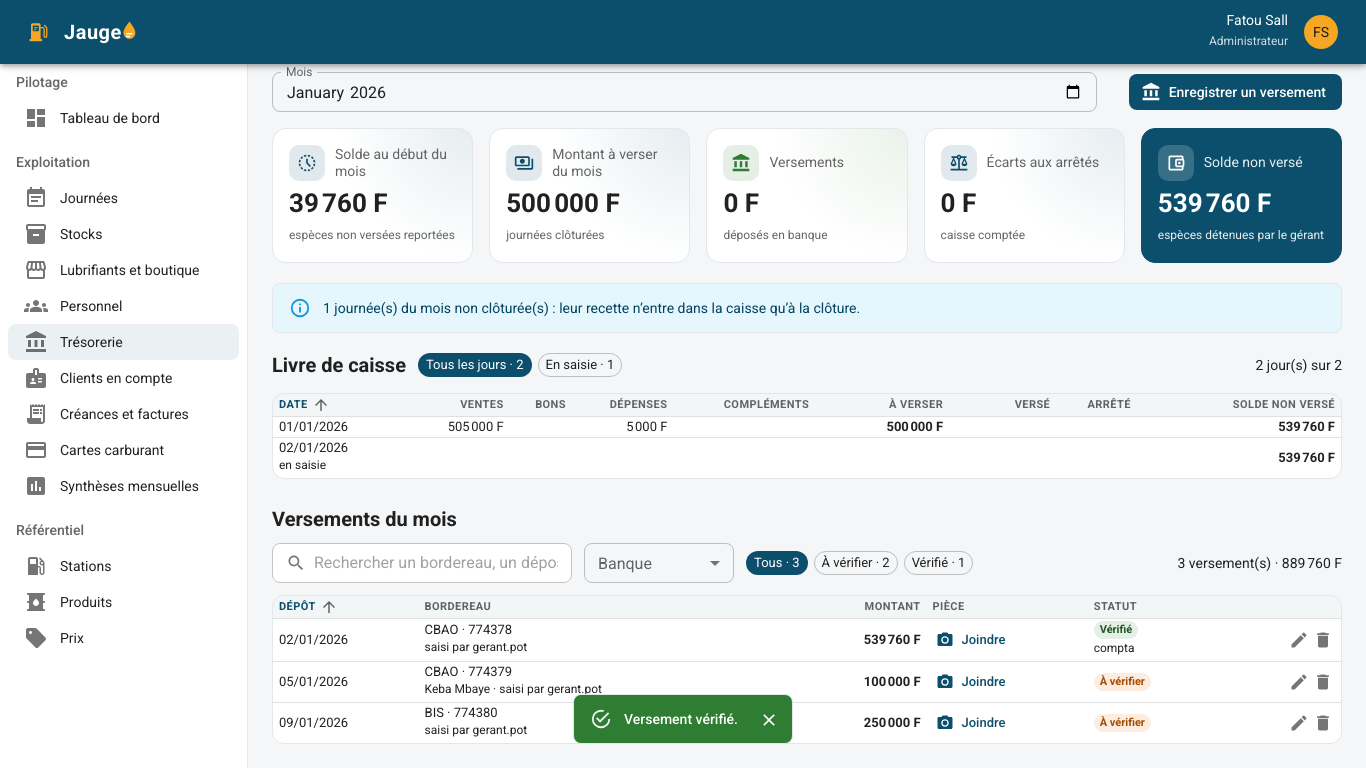
Test: trésorerie › les versements se filtrent par recherche et par statut, et se trient par colonne
(page scrolled)
Expected: the text with test id "resume-versements" reads "3 versement(s) · 889 760 F", [1178,555,1342,571]
Note: Tri par montant, puis sens inverse au second clic
Click the button "Montant".
click(893, 607)  # box [865,600,921,613]
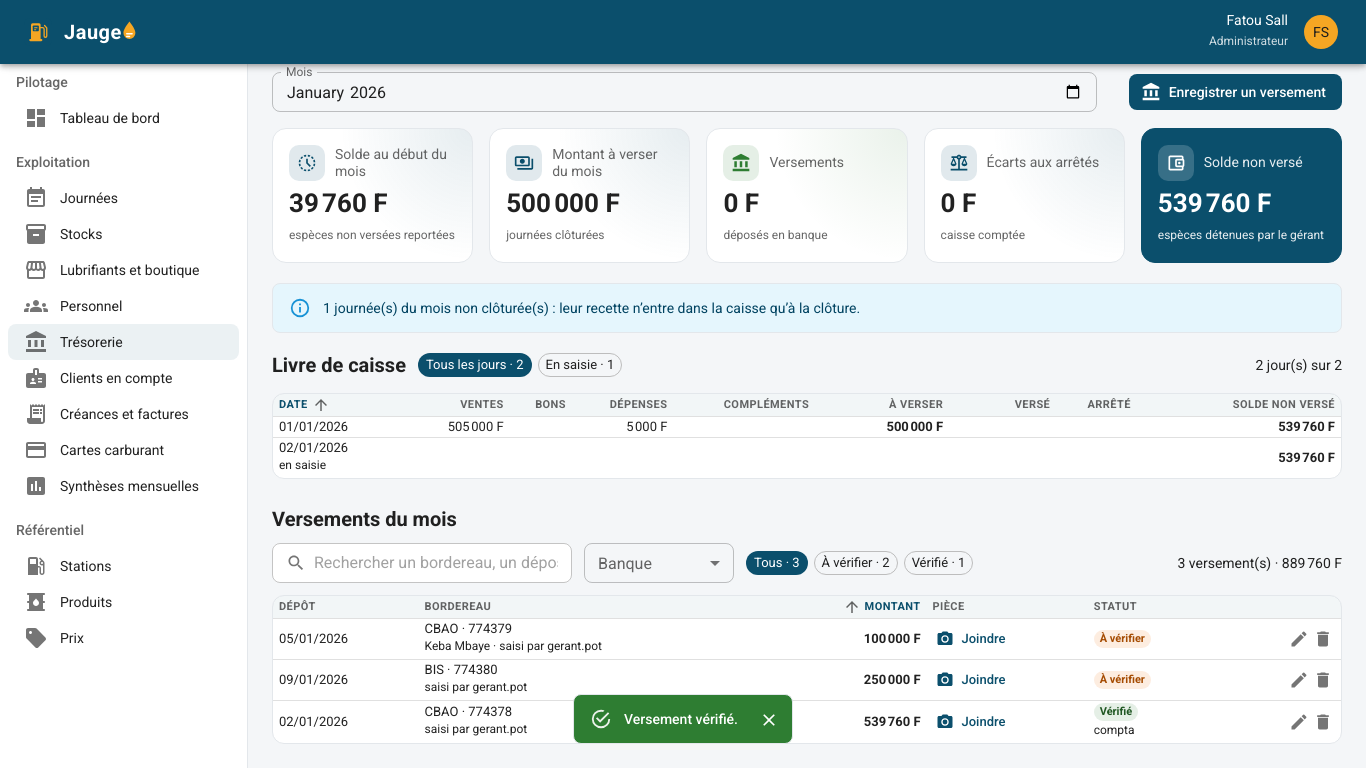
Click the button "Montant".
click(880, 607)  # box [839,598,921,616]
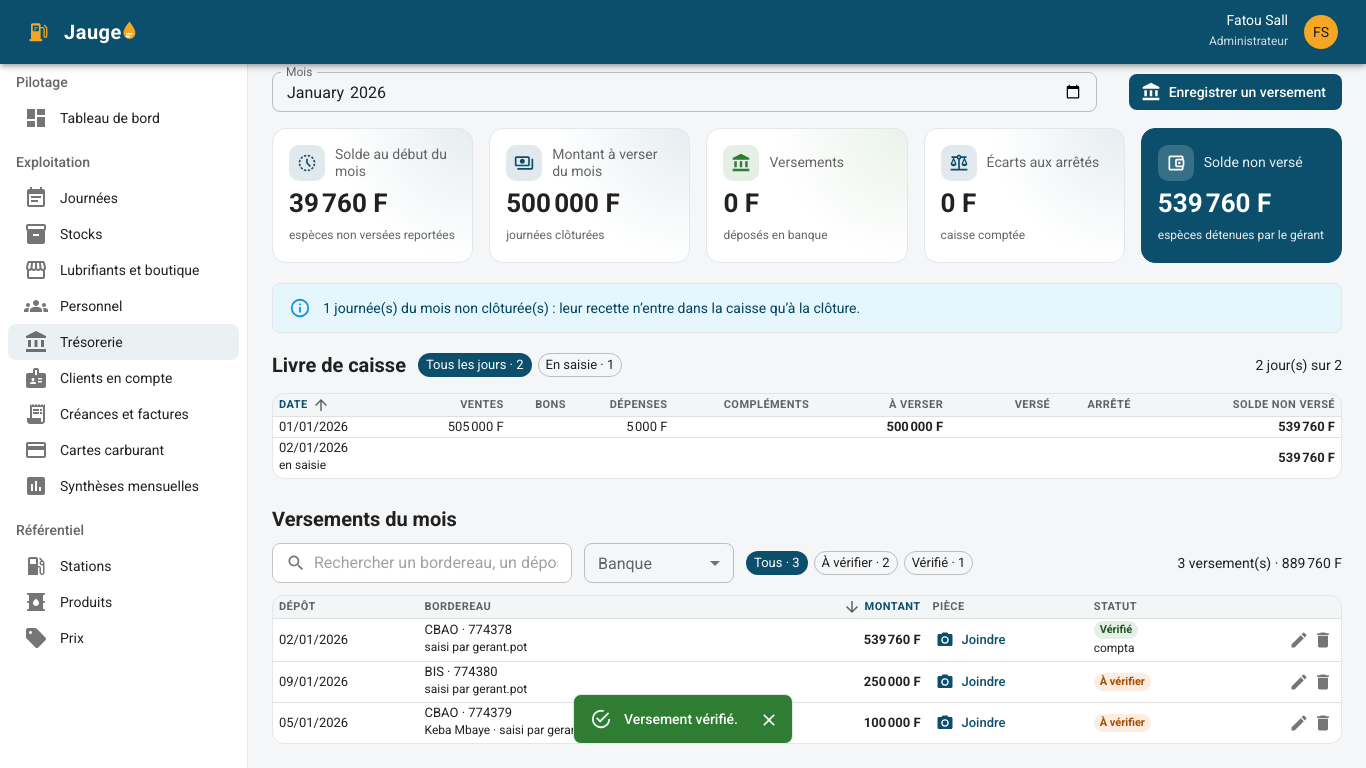
Note: Filtre par statut, avec le nombre de versements de chaque statut
Click the button "À vérifier · 2".
click(856, 563)  # box [814,551,898,575]
(page scrolled)
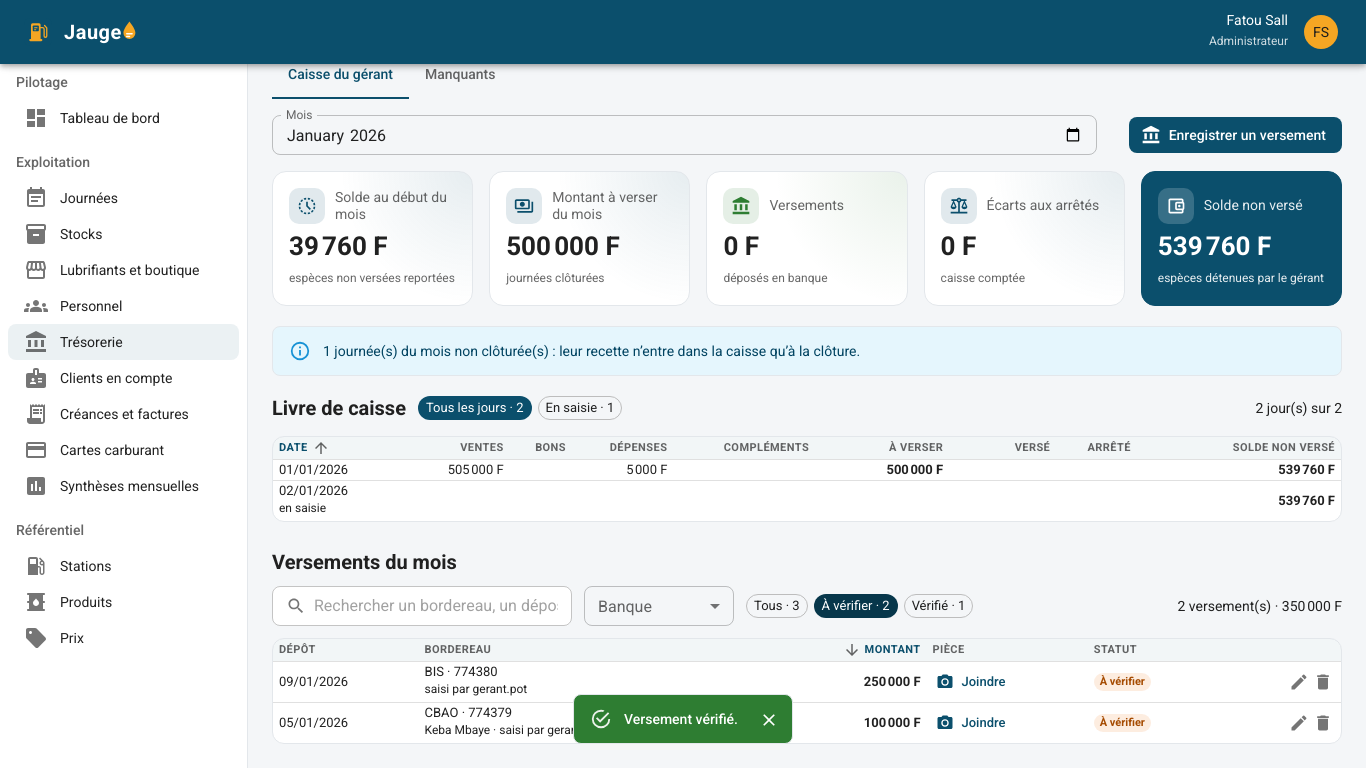
Expected: the text with test id "resume-versements" reads "2 versement(s) · 350 000 F", [1178,598,1342,614]
Note: Recherche sans accents ni majuscules, sur le déposant
Type "KEBA" into the field labelled "Rechercher un bordereau, un déposant".
click(443, 606); type("KEBA")  # box [314,586,572,626]
(page scrolled)
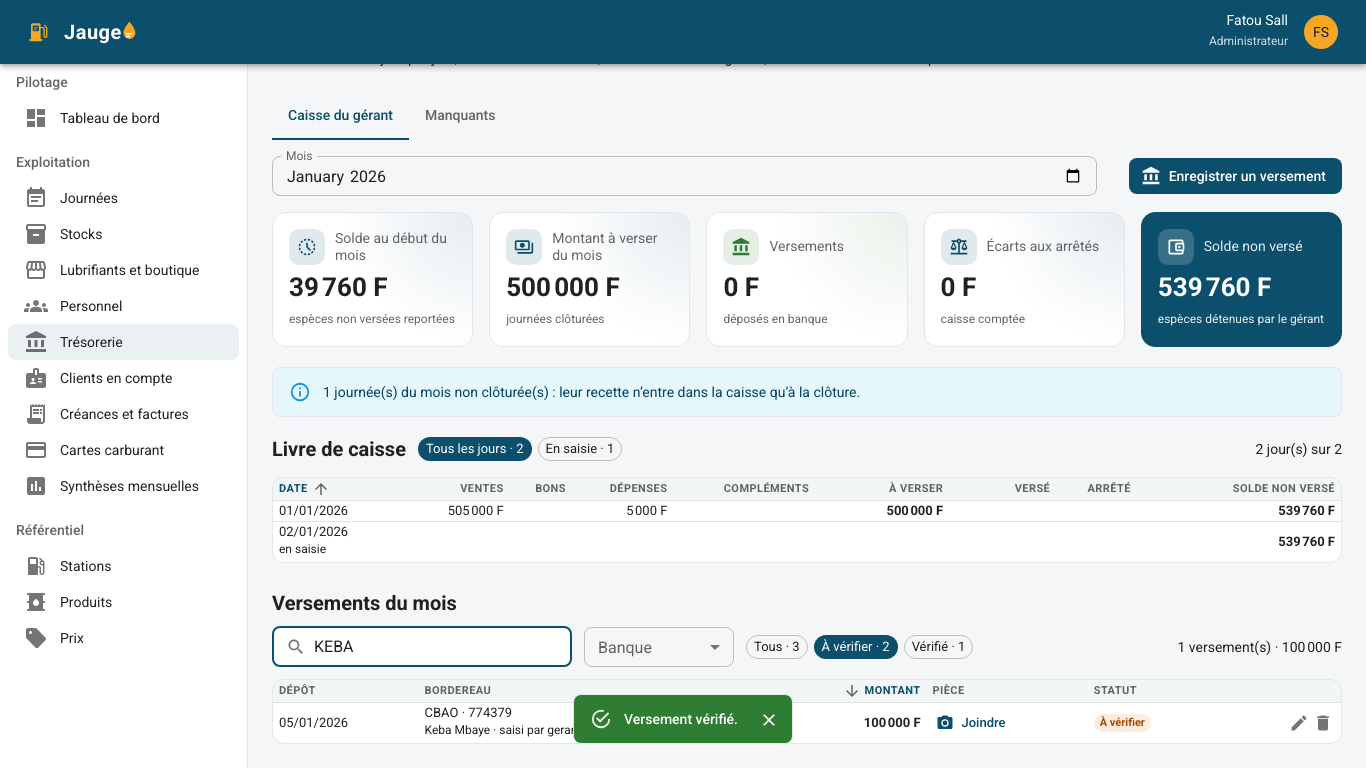
Type " zzz" into the field named "Rechercher un bordereau, un déposant".
click(443, 647); type(" zzz")  # box [314,627,572,667]
(page scrolled)
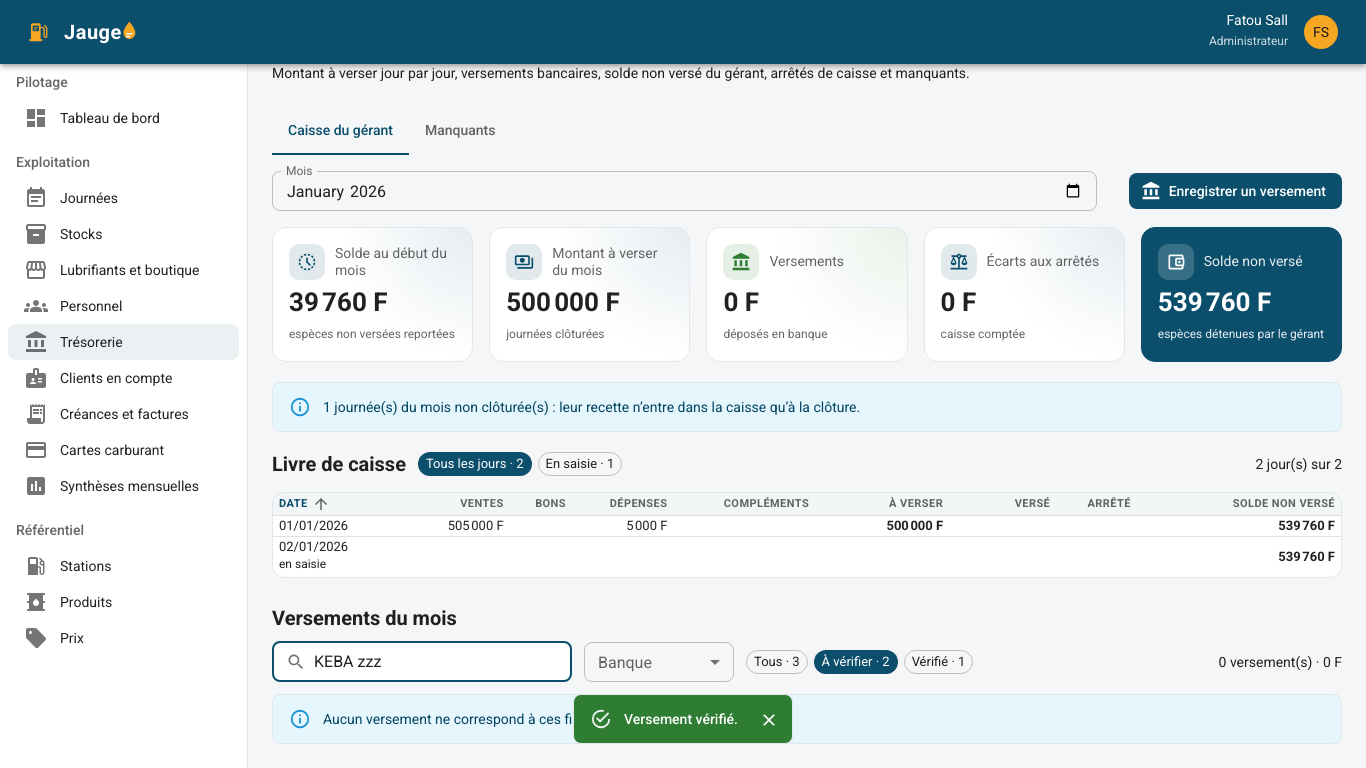
Expected: the text "Aucun versement ne correspond à ces filtres." is shown, [323,711,603,727]
Note: Le livre de caisse se filtre aussi : un seul jour encore en saisie
Click the button "En saisie · 1".
click(580, 464)  # box [538,452,622,476]
(page scrolled)
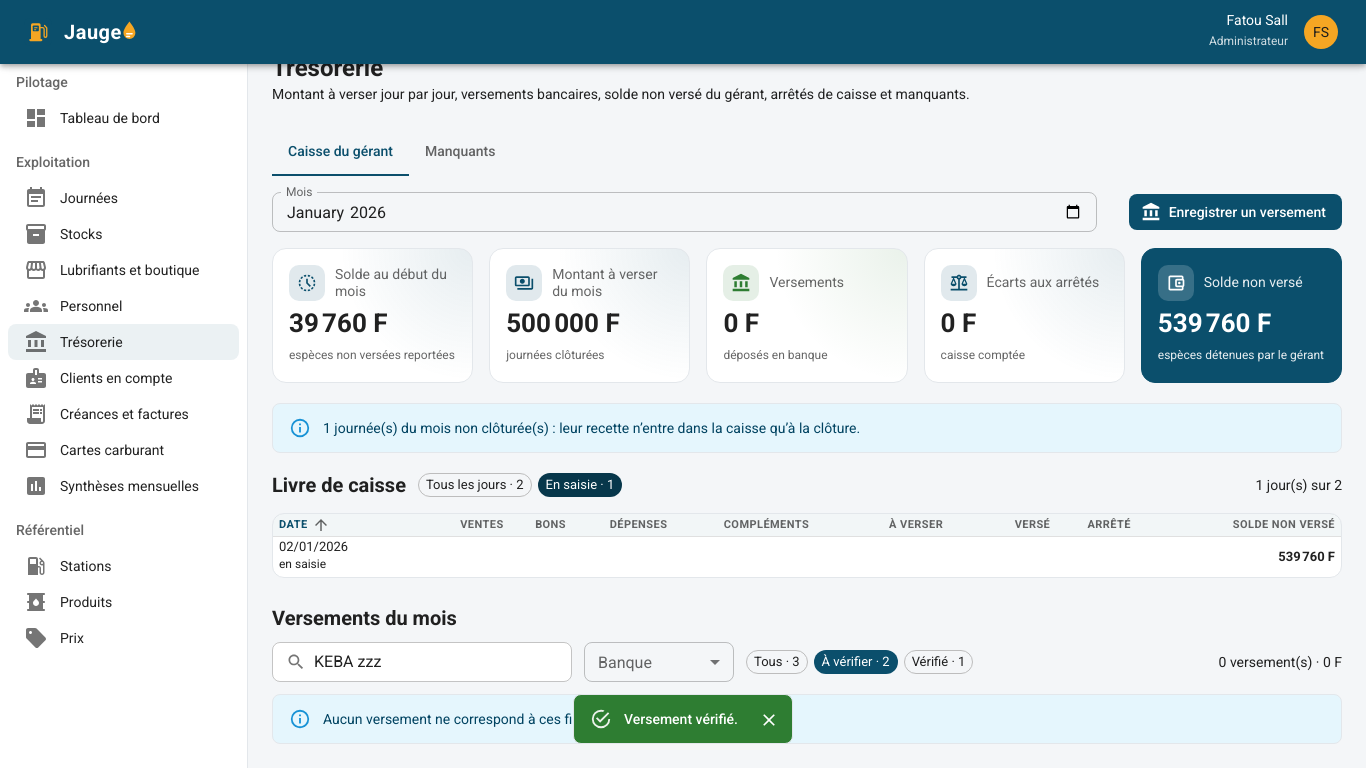
Expected: the row with test id "caisse-2026-01-02" is shown, [273,536,1341,577]
Expected: the row with test id "caisse-2026-01-01" is gone
